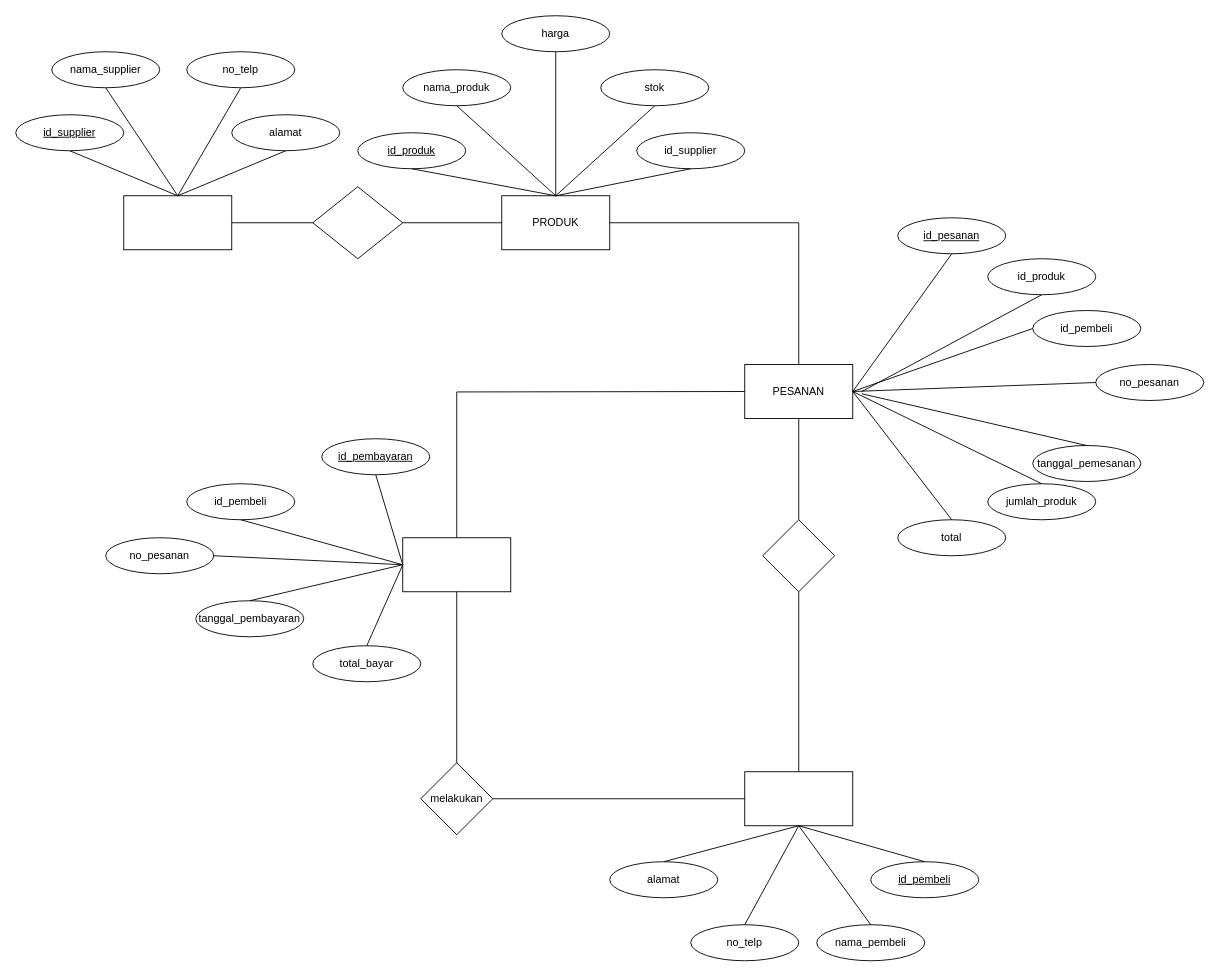
This 1220x977 diagram has some shape labels left out. The shapes that lost their labels are listed below. From the top down, each one's centre as x and y in pixels, then its label:
At point (177, 222): "SUPPLIER".
At point (357, 222): "suplai produk".
At point (456, 564): "PEMBAYARAN".
At point (798, 555): "order/pesan".
At point (798, 798): "PEMBELI".
